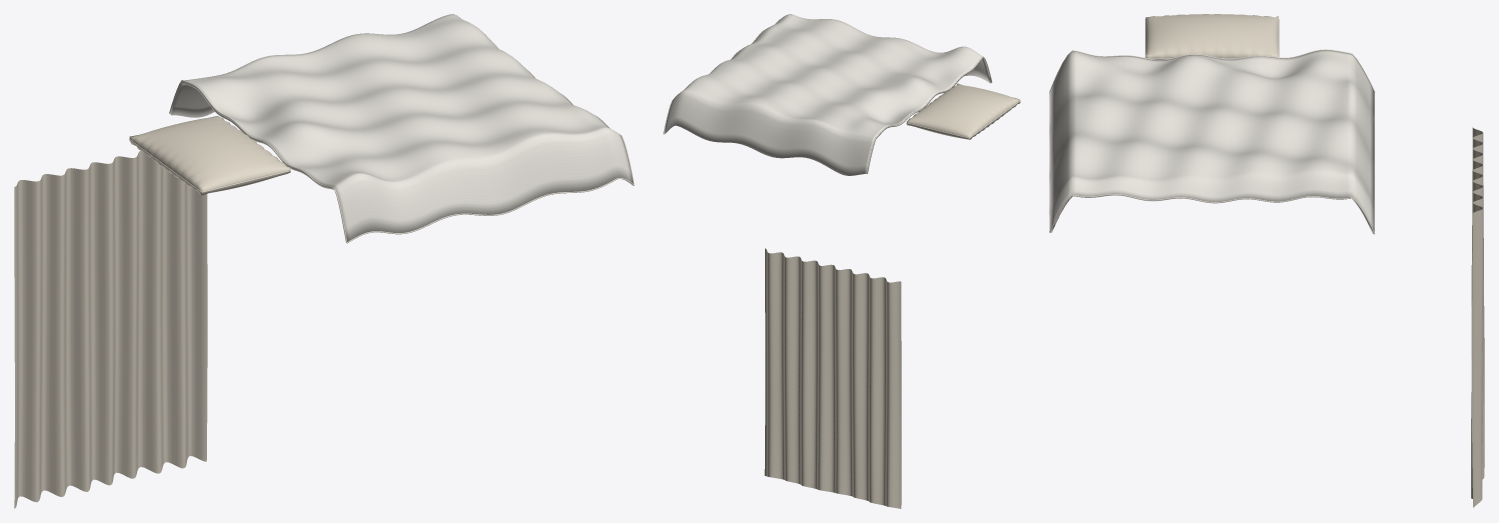
Rendered from bedding.glb.
3 renders of one model, left to right at view 1: azimuth 30°, elevation 25°; view 2: azimuth 150°, elevation 25°; view 3: azimuth 270°, elevation 25°, orthographic. The views are drawn at different scales.
Visible parts, largest first — view 1: CurtainPanelAsset, Quilt sculpted drape, Single linen pillow; view 2: CurtainPanelAsset, Quilt sculpted drape, Single linen pillow; view 3: Quilt sculpted drape, Single linen pillow, CurtainPanelAsset, Quilt hem outer, Quilt hem left.
Boxes of the visible parts, x1,y1,x2,y2 form: CurtainPanelAsset: (14,151,207,508); Quilt sculpted drape: (170,14,633,242); Single linen pillow: (129,116,290,195); CurtainPanelAsset: (764,248,901,508); Quilt sculpted drape: (664,14,991,175); Single linen pillow: (906,83,1020,139); Quilt sculpted drape: (1050,50,1374,234); Single linen pillow: (1145,14,1278,59); CurtainPanelAsset: (1471,127,1484,507); Quilt hem outer: (1049,194,1374,234); Quilt hem left: (1049,49,1374,91).
Bounding box in the file's own units: 2.02 × 2.29 × 2.13.
Materials: 3 (2 with a texture image).
